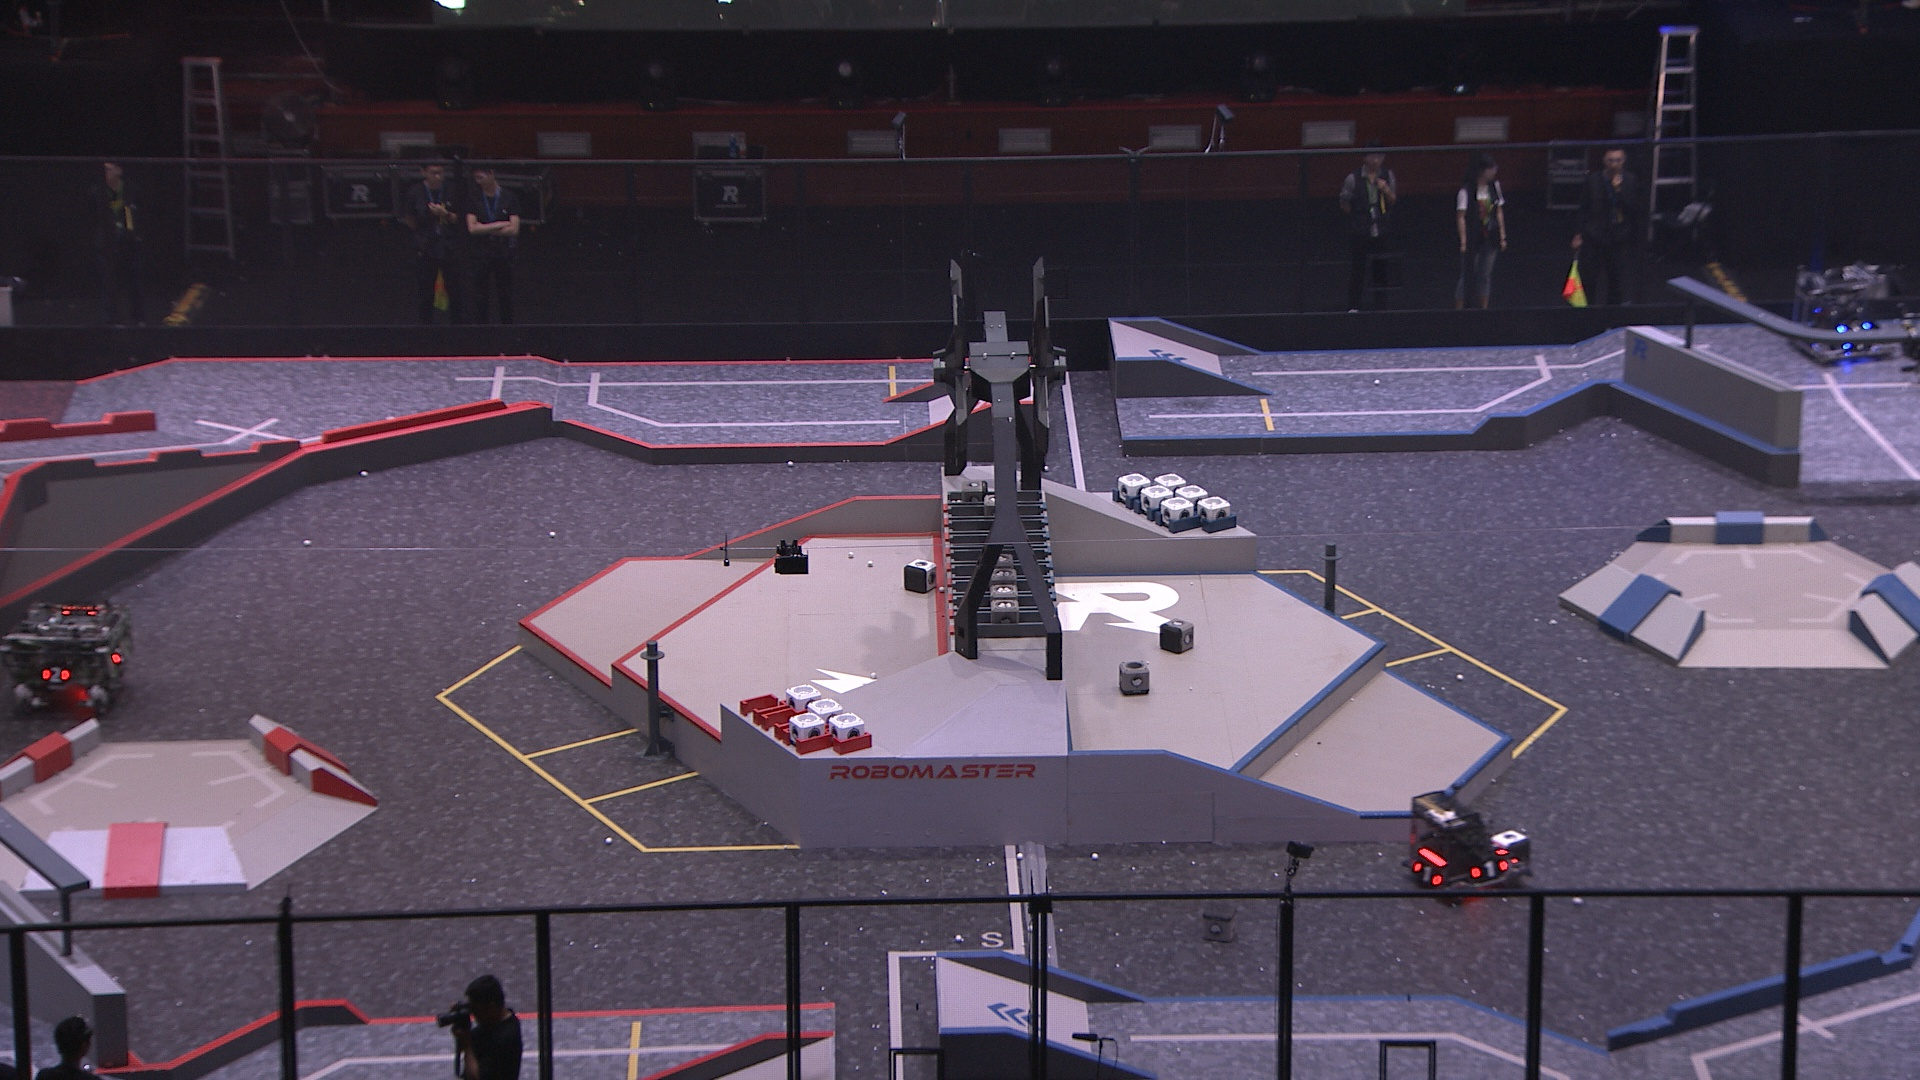armor: (1470, 856, 1509, 884), (1410, 861, 1447, 887), (1832, 316, 1875, 334), (40, 666, 71, 684), (109, 644, 128, 665)
car: (1399, 789, 1538, 905), (1788, 258, 1896, 363)
watcher: (1898, 301, 1920, 385)
